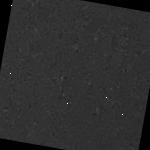colony: (34, 135, 137, 150)
